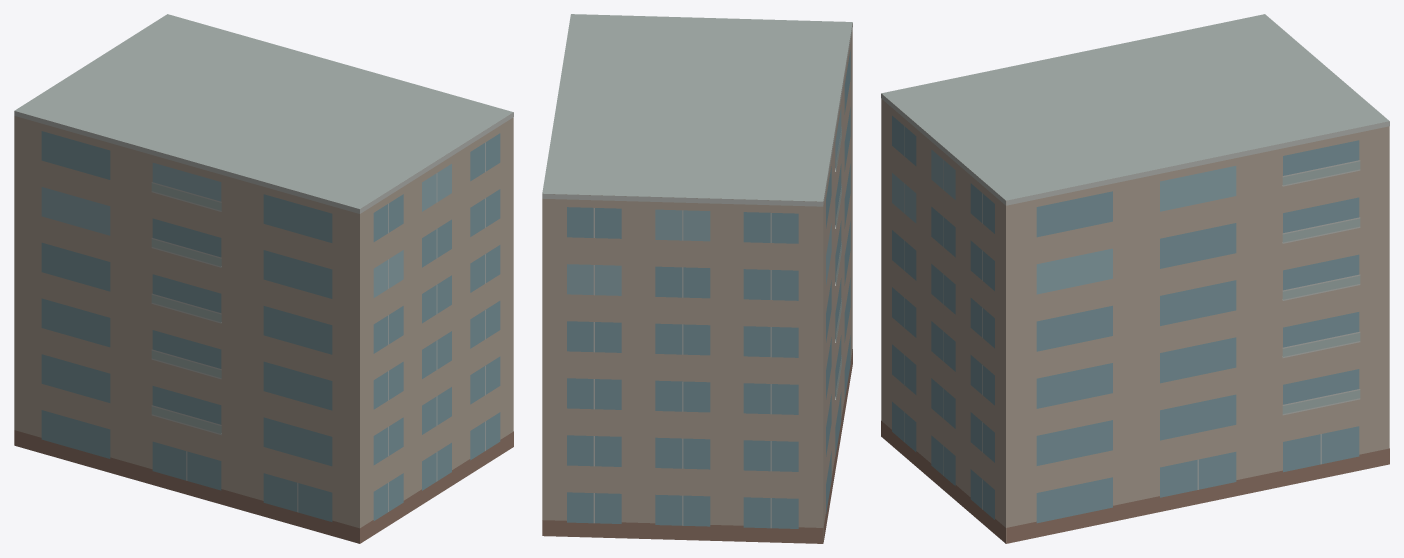
Rendered from survey-upis-33010880.glb.
The picture shows the model from 3 angles, left to right: view 1: azimuth 30°, elevation 25°; view 2: azimuth 150°, elevation 25°; view 3: azimuth 270°, elevation 25°; orthographic projection. The views are drawn at different scales.
Visible parts, largest first — view 1: survey-upis-33010880.tmp; view 2: survey-upis-33010880.tmp; view 3: survey-upis-33010880.tmp.
Boxes of the visible parts, box(x1,y1,x2,y2) form: survey-upis-33010880.tmp: box(14, 14, 513, 543); survey-upis-33010880.tmp: box(542, 14, 852, 543); survey-upis-33010880.tmp: box(881, 14, 1389, 543).
Bounding box in the file's own units: 19.38 × 16.6 × 22.31.
